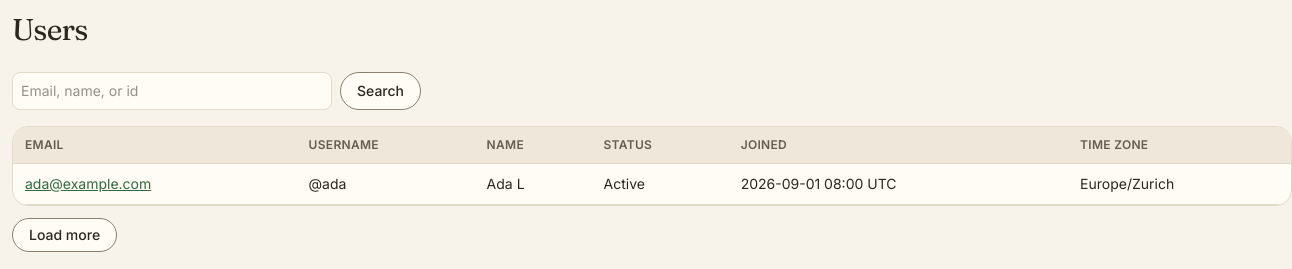
users (CR.5) › loads more users page by page
What coordinates should you click on to do the following:
click the button "Load more"
I would click on:
 (65, 235)
Its box is [12,218,117,252].
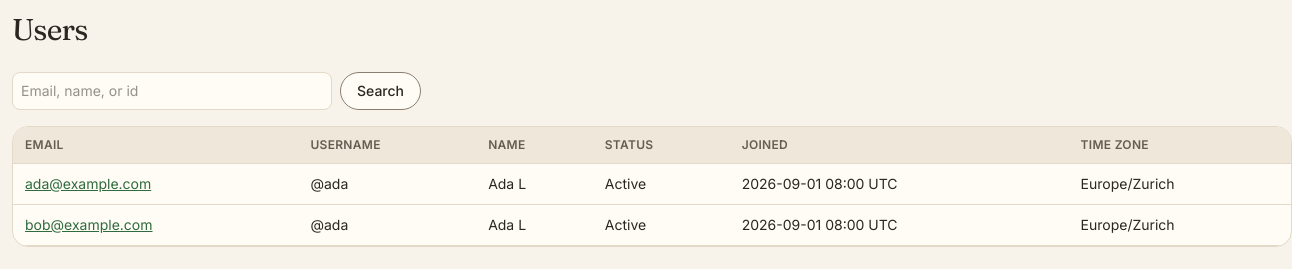
Expected: the link "ada@example.com" is shown, [25,175,151,192]
Expected: the link "bob@example.com" is shown, [25,216,152,233]
Expected: the button "Load more" is gone
